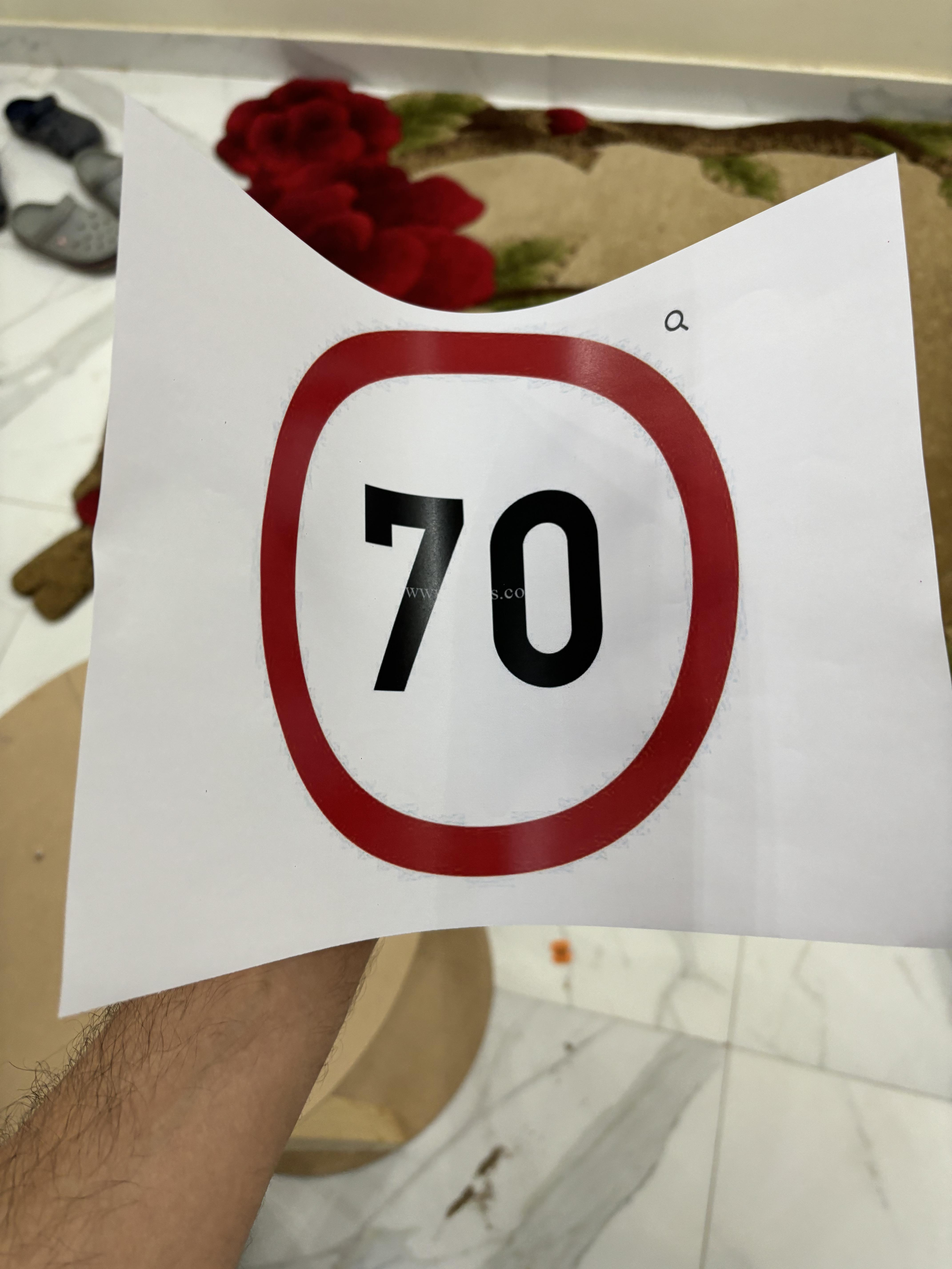70-Speed: (253, 327, 749, 886)
